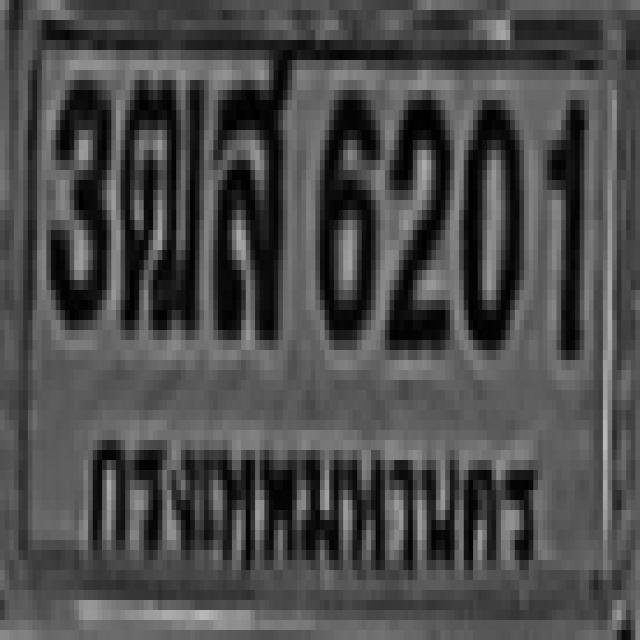0: (459, 90, 520, 340)
1: (542, 90, 580, 350)
2: (382, 90, 448, 340)
27ThorPhuThao: (116, 70, 199, 330)
3: (46, 70, 107, 320)
49SorSuea: (208, 50, 288, 330)
6: (315, 80, 376, 330)
Bangkok: (80, 413, 546, 607)
